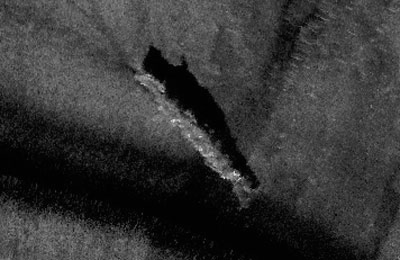ship: (133, 66, 257, 205)
